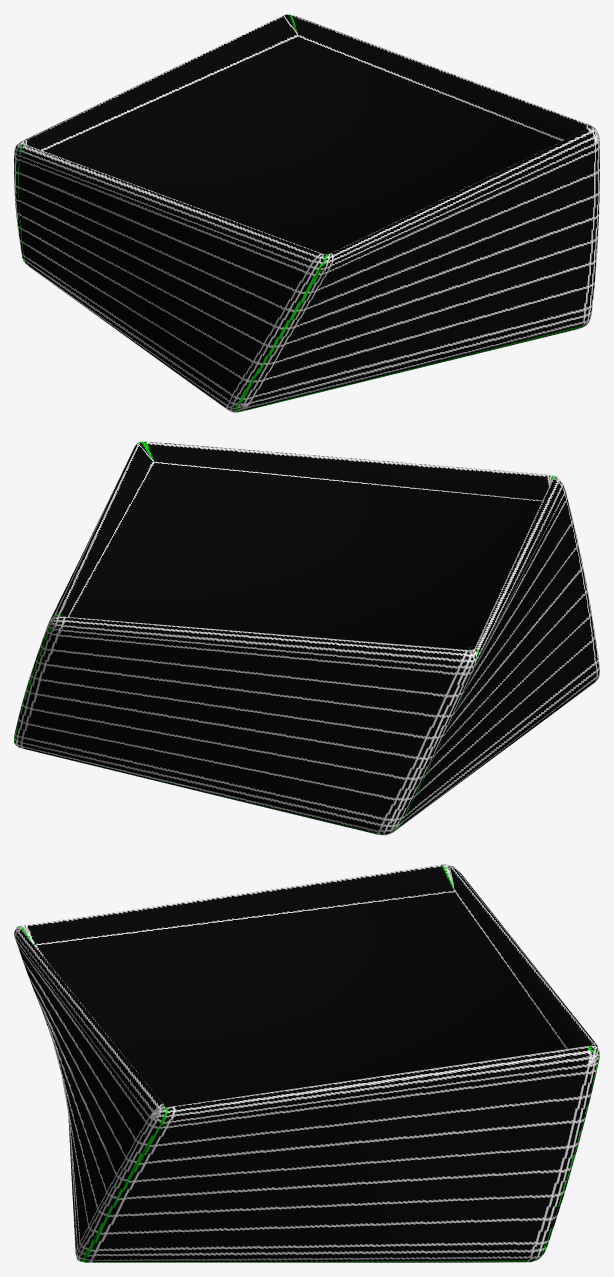
File: button click.FBX
The picture shows the model from 3 angles, top to bottom: view 1: azimuth 30°, elevation 25°; view 2: azimuth 150°, elevation 25°; view 3: azimuth 270°, elevation 25°; orthographic projection. The views are drawn at different scales.
Parts seen in each view (by area): view 1: Box001; view 2: Box001; view 3: Box001.
Boxes of the visible parts, left/top/right/bottom form: Box001: left=14, top=14, right=599, bottom=412; Box001: left=14, top=441, right=599, bottom=835; Box001: left=14, top=864, right=599, bottom=1262.
Bounding box in the file's own units: 43.52 × 14.93 × 43.52.
